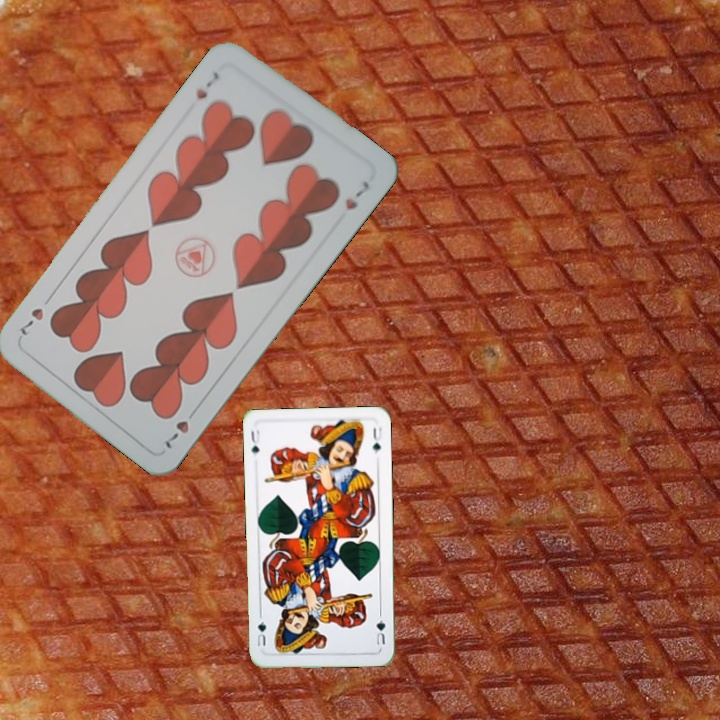GU: (372, 615, 388, 647), (247, 425, 263, 456)
H7: (159, 403, 201, 452), (192, 67, 223, 102)
